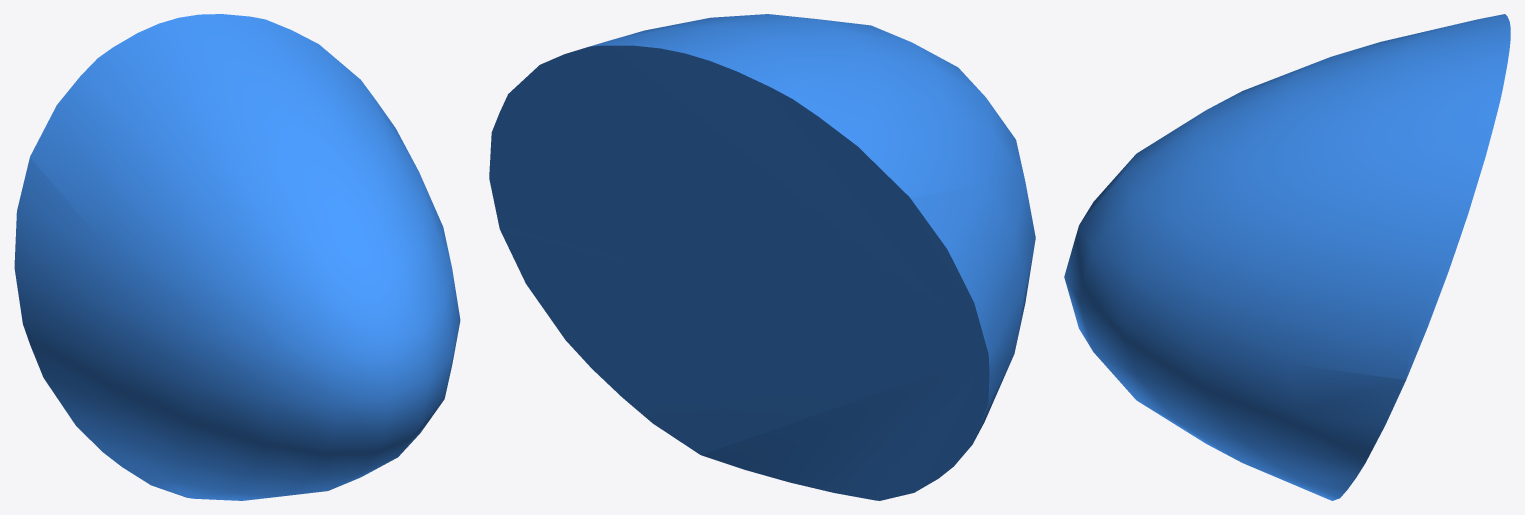
Rendered from nubzuki_left_success2.obj.
The picture shows the model from 3 angles, left to right: view 1: azimuth 30°, elevation 25°; view 2: azimuth 150°, elevation 25°; view 3: azimuth 270°, elevation 25°; orthographic projection. The views are drawn at different scales.
Parts seen in each view (by area): view 1: Sphere.001; view 2: Sphere.001; view 3: Sphere.001.
Part boxes in pixels (x1,y1,x2,y2): Sphere.001: (14,14,460,500); Sphere.001: (489,14,1035,500); Sphere.001: (1064,14,1510,500).
Bounding box in the file's own units: 1.67 × 1.63 × 1.53.
1 material, 1 textured.
